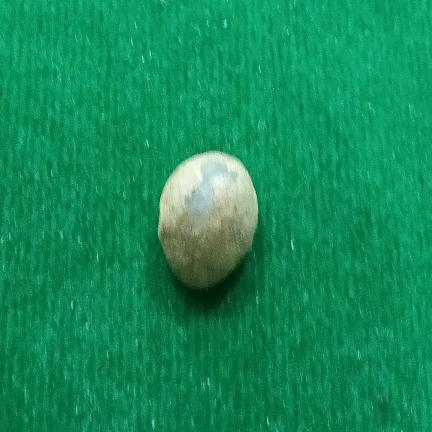good: (158, 151, 258, 289)
